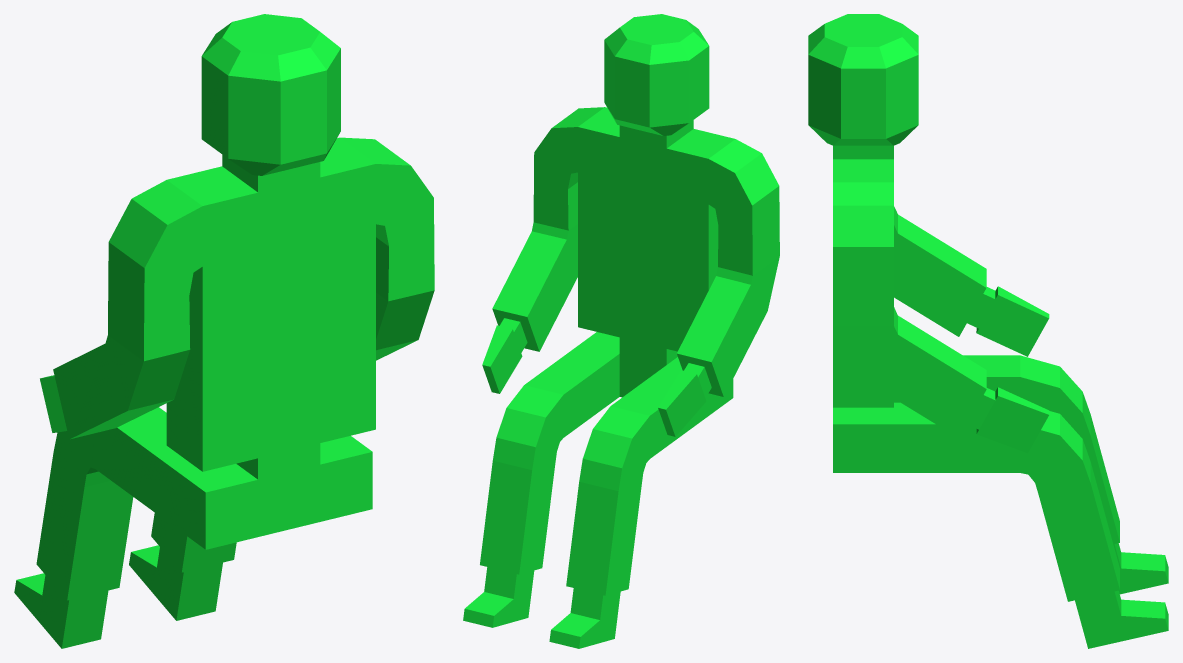
The model's file is Crew.fbx.
3 renders of one model, left to right at view 1: azimuth 30°, elevation 25°; view 2: azimuth 150°, elevation 25°; view 3: azimuth 270°, elevation 25°, orthographic. The views are drawn at different scales.
Parts seen in each view (by area): view 1: 立方佖; view 2: 立方佖; view 3: 立方佖.
Part boxes in pixels (box(x1,y1,x2,y2)): 立方佖: box(14, 14, 434, 648); 立方佖: box(463, 14, 779, 648); 立方佖: box(808, 14, 1168, 648).
Bounding box in the file's own units: 55.87 × 127 × 70.73.
